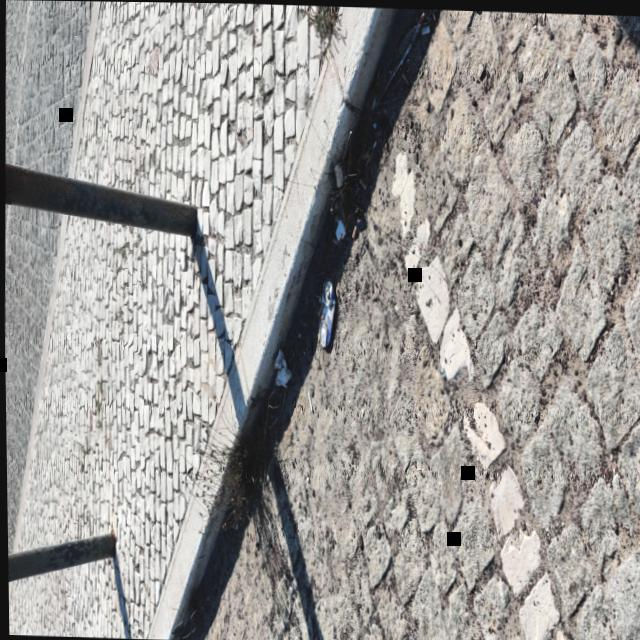Cigarette: (306, 386, 311, 409), (401, 70, 409, 83), (371, 89, 376, 109), (358, 175, 365, 188), (317, 299, 322, 315), (361, 148, 369, 158), (351, 222, 356, 237), (422, 23, 429, 32), (331, 235, 338, 243), (317, 310, 322, 321), (316, 326, 318, 339)
Drink can: (317, 276, 333, 344)
Normal paper: (335, 217, 344, 241), (334, 159, 342, 184)
Plastic film: (367, 10, 426, 104)
Pop tab: (324, 280, 328, 294)
Tissues: (274, 348, 289, 384)
